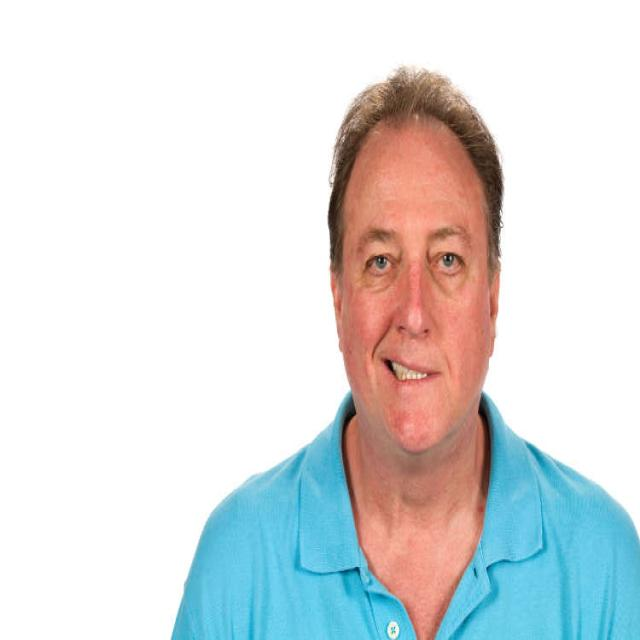stroke_face: (356, 110, 483, 447)
